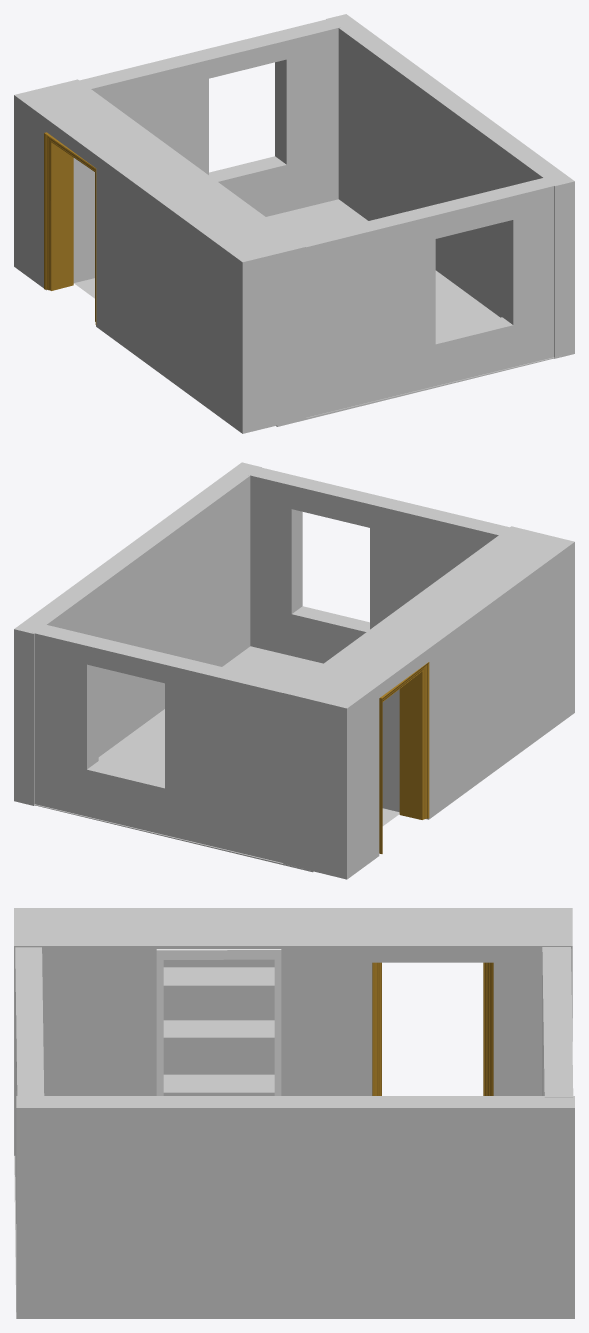
The model's file is room 1.fbx.
3 renders of one model, top to bottom at view 1: azimuth 30°, elevation 25°; view 2: azimuth 150°, elevation 25°; view 3: azimuth 270°, elevation 25°, orthographic. The views are drawn at different scales.
Parts seen in each view (by area): view 1: Cube.001, Cube.002, Cube, Cube.003, Cube.010, Plane; view 2: Cube.001, Cube.003, Cube, Cube.002, Cube.010, Plane; view 3: Cube, Cube.001, Plane.001, Cube.003, Cube.002, Door, Cube.010.
Boxes of the visible parts, <box> form: Cube.001: <box>14,79,306,433</box>; Cube.002: <box>276,177,556,426</box>; Cube: <box>326,14,574,358</box>; Cube.003: <box>79,18,340,216</box>; Cube.010: <box>44,132,96,324</box>; Plane: <box>74,199,554,417</box>; Cube.001: <box>283,526,574,879</box>; Cube.003: <box>32,624,313,872</box>; Cube: <box>14,462,261,805</box>; Cube.002: <box>248,467,509,663</box>; Cube.010: <box>379,662,429,853</box>; Plane: <box>34,646,399,863</box>; Cube: <box>16,1096,574,1318</box>; Cube.001: <box>14,908,572,1155</box>; Plane.001: <box>163,967,274,1092</box>; Cube.003: <box>542,947,573,1097</box>; Cube.002: <box>15,947,44,1223</box>; Door: <box>156,949,281,1095</box>; Cube.010: <box>372,962,493,1095</box>.
Size of the model in its own units: 8098 by 3999 by 9585.
